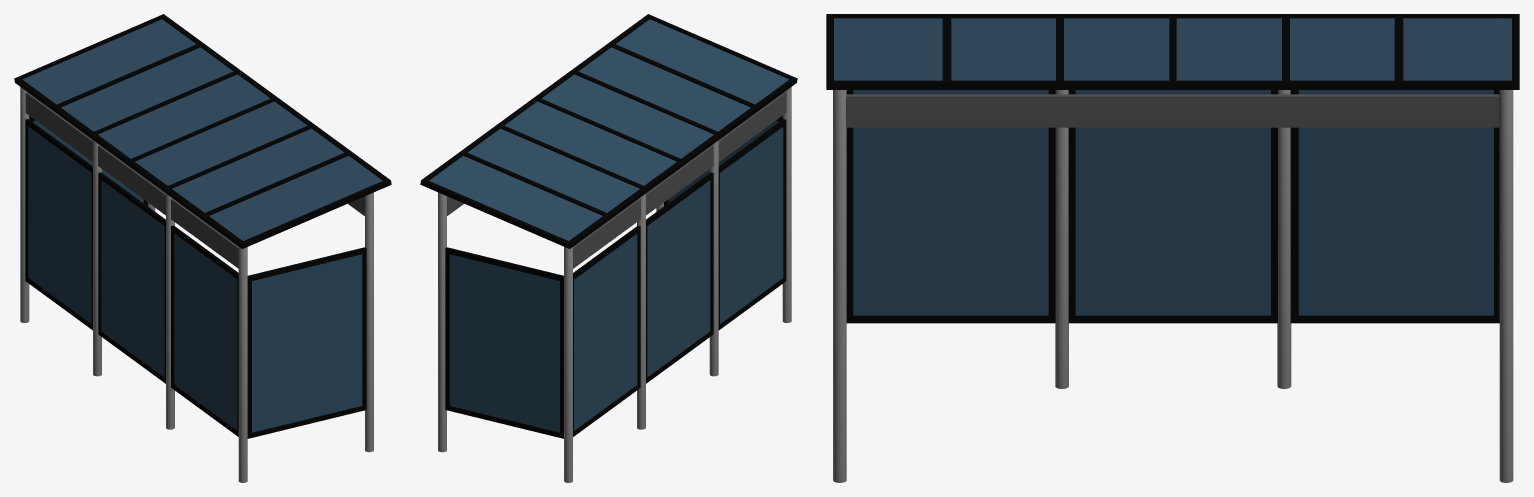
File: Shed.fbx
3 renders of one model, left to right at view 1: azimuth 30°, elevation 25°; view 2: azimuth 150°, elevation 25°; view 3: azimuth 270°, elevation 25°, orthographic. The views are drawn at different scales.
Parts seen in each view (by area): view 1: Roof, Frame.001, Frame.004, Frame, Frame.003, Steel, Roof Panel, Frame.002; view 2: Roof, Frame.002, Frame.003, Frame.004, Frame, Steel, Roof Panel, Frame.001; view 3: Roof, Frame, Frame.003, Frame.004, Roof Panel, Steel.
Boxes of the visible parts, x1,y1,x2,y2 form: Roof: (14, 14, 391, 248); Frame.001: (247, 247, 366, 438); Frame.004: (98, 172, 165, 383); Frame: (25, 119, 92, 330); Frame.003: (171, 225, 238, 436); Steel: (20, 87, 373, 482); Roof Panel: (25, 92, 364, 268); Frame.002: (29, 116, 147, 205); Roof: (420, 14, 797, 248); Frame.002: (445, 247, 563, 438); Frame.003: (718, 119, 786, 330); Frame.004: (646, 172, 713, 383); Frame: (573, 225, 640, 436); Steel: (438, 87, 791, 482); Roof Panel: (447, 92, 786, 268); Frame.001: (664, 116, 782, 205); Roof: (826, 14, 1519, 89); Frame: (1290, 90, 1499, 323); Frame.003: (846, 90, 1055, 323); Frame.004: (1068, 90, 1277, 323); Roof Panel: (846, 94, 1499, 127); Steel: (833, 18, 1513, 482).
Size of the model in its own units: 179 by 306 by 468.
